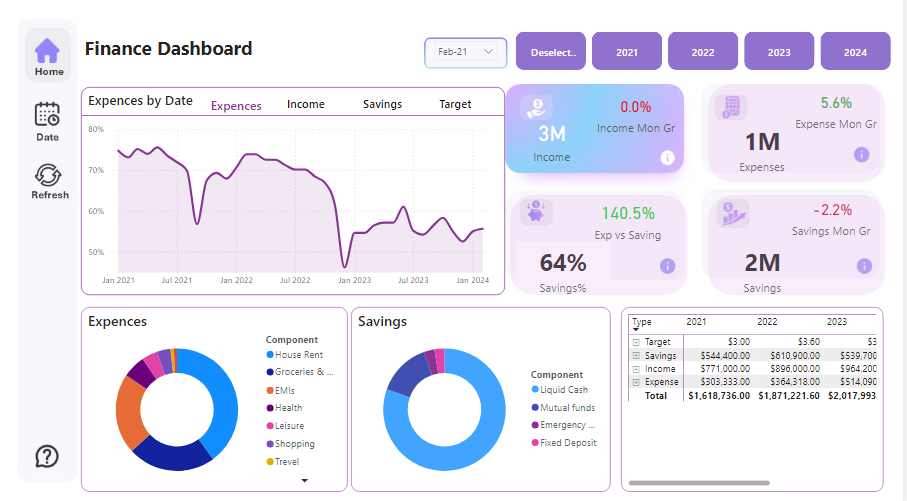

What the dashboard file says about the page in this screenshot:
{"tool":"powerbi","page":{"name":"Page 1","canvas":[1280,720],"ordinal":0},"visuals":[{"type":"card","fields":{"Values":["FinData.Income"]},"box":[715.9,163.2,133.2,83],"z":0},{"type":"card","fields":{"Values":["FinData.Expences"]},"box":[1013.7,176.1,133.2,84.5],"z":1000},{"type":"card","fields":{"Values":["FinData.Savings"]},"box":[1020.9,350.8,120.3,78.7],"z":2000},{"type":"card","fields":{"Values":["FinData.Savings%"]},"box":[731.6,350.8,133.2,78.7],"z":3000},{"type":"advancedSlicerVisual","fields":{"Values":["FinData.Year"]},"box":[725.9,47.2,545.5,65.9],"z":4000},{"type":"donutChart","title":"Savings","fields":{"Category":["FinData.Component"],"Y":["FinData.Savings"]},"box":[496.8,442.4,368,262],"z":5000},{"type":"donutChart","title":"Expences","fields":{"Category":["FinData.Component"],"Y":["FinData.Expences"]},"box":[114.5,442.4,378,262],"z":6000},{"type":"pivotTable","fields":{"Rows":["FinData.Type","FinData.Component"],"Columns":["FinData.Year"],"Values":["FinData.Total value"]},"box":[880.5,442.4,372.3,262],"z":7000},{"type":"areaChart","fields":{"Category":["FinData.Date.Variation.Date Hierarchy.Year","FinData.Date.Variation.Date Hierarchy.Quarter","FinData.Date.Variation.Date Hierarchy.Month","FinData.Date.Variation.Date Hierarchy.Day"],"Y":["FinData.Line Chart Measures"]},"box":[114.5,130.3,601.3,294.9],"z":8000},{"type":"advancedSlicerVisual","fields":{"Values":["Line Selection Table.Type"]},"box":[280.6,130.3,435.3,45.8],"z":9000},{"type":"textbox","box":[114.5,51.5,456.7,61.6],"z":10000},{"type":"slicer","fields":{"Values":["Selected Date.Month-Yr"]},"box":[605.6,55.8,110.2,47.2],"z":11000},{"type":"card","fields":{"Values":["FinData.Expense Monthly Growth"]},"box":[1116.8,126,136,73],"z":12000},{"type":"card","fields":{"Values":["FinData.Income Monthly Growth"]},"box":[834.7,130.3,133.2,74.5],"z":13000},{"type":"card","fields":{"Values":["FinData.Savings Monthly Growth"]},"box":[1106.8,276.3,146,74.5],"z":14000},{"type":"card","fields":{"Values":["FinData.Exp vs Saving"]},"box":[834.7,282.1,110.2,73],"z":15000},{"type":"shape","box":[1003.7,283.5,252,141.7],"z":16000},{"type":"shape","box":[723,283.5,252,141.7],"z":17000},{"type":"shape","box":[1003.7,126,252,138.9],"z":18000},{"type":"actionButton","box":[14.2,226.8,100.6,66.6],"z":18001}]}

Visuals, with their boxes on the page's 1280x720 design canvas (x1, y1, x2, y2). These are canvas units, not pixel positions in the 907x501 screenshot, which may show the page scaled, cropped or inside an application window:
card - FinData.Income: box(716, 163, 849, 246)
card - FinData.Expences: box(1014, 176, 1147, 261)
card - FinData.Savings: box(1021, 351, 1141, 430)
card - FinData.Savings%: box(732, 351, 865, 430)
advancedSlicerVisual - FinData.Year: box(726, 47, 1271, 113)
"Savings" donutChart: box(497, 442, 865, 704)
"Expences" donutChart: box(114, 442, 492, 704)
pivotTable - FinData.Type x FinData.Component: box(880, 442, 1253, 704)
areaChart - FinData.Date.Variation.Date Hierarchy.Year x FinData.Date.Variation.Date Hierarchy.Quarter: box(114, 130, 716, 425)
advancedSlicerVisual - Line Selection Table.Type: box(281, 130, 716, 176)
textbox: box(114, 52, 571, 113)
slicer - Selected Date.Month-Yr: box(606, 56, 716, 103)
card - FinData.Expense Monthly Growth: box(1117, 126, 1253, 199)
card - FinData.Income Monthly Growth: box(835, 130, 968, 205)
card - FinData.Savings Monthly Growth: box(1107, 276, 1253, 351)
card - FinData.Exp vs Saving: box(835, 282, 945, 355)
shape: box(1004, 284, 1256, 425)
shape: box(723, 284, 975, 425)
shape: box(1004, 126, 1256, 265)
actionButton: box(14, 227, 115, 293)
